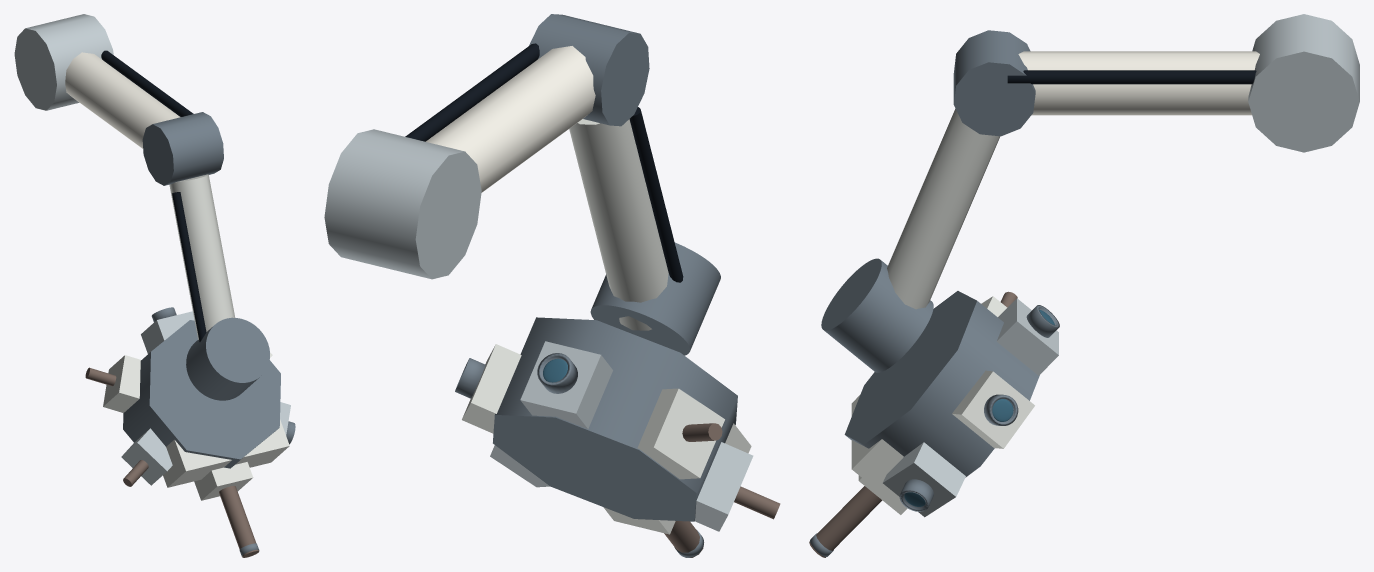
Rendered from perseverance_arm.shoulder_azimuth.shoulder_elevation.glb.
3 views of the same model, side by side, from view 1: azimuth 30°, elevation 25°; view 2: azimuth 150°, elevation 25°; view 3: azimuth 270°, elevation 25° (orthographic). The views are drawn at different scales.
Parts seen in each view (by area): view 1: perseverance_turret.mesh_Machined_steel, perseverance_arm.shoulder_azimuth.shoulder_elevation.elbow.f (×3), perseverance_arm.shoulder_azimuth.shoulder_elevation.mesh_Sa, perseverance_arm.shoulder_azimuth.shoulder_elevation.mesh_Wa, perseverance_arm.shoulder_azimuth.shoulder_elevation.elbow.m, perseverance_turret.mesh_Pale_thermal_blanket, perseverance_turret.gdrt.mesh_Pale_thermal_blanket, perseverance_turret.contact_sensor.mesh_Satin_aluminum, perseverance_turret.drill.mesh_Pale_thermal_blanket, perseverance_turret.drill.mesh_Heat-stained_alloy, perseverance_arm.shoulder_azimuth.shoulder_elevation.mesh_Sh, perseverance_turret.watson.mesh_Satin_aluminum (+1 smaller); view 2: perseverance_turret.mesh_Machined_steel, perseverance_arm.shoulder_azimuth.shoulder_elevation.elbow.f (×3), perseverance_arm.shoulder_azimuth.shoulder_elevation.mesh_Sa, perseverance_arm.shoulder_azimuth.shoulder_elevation.mesh_Wa, perseverance_arm.shoulder_azimuth.shoulder_elevation.elbow.m, perseverance_turret.gdrt.mesh_Pale_thermal_blanket, perseverance_turret.watson.mesh_Satin_aluminum, perseverance_turret.contact_sensor.mesh_Satin_aluminum, perseverance_turret.sherloc.mesh_Pale_thermal_blanket, perseverance_arm.shoulder_azimuth.shoulder_elevation.mesh_Sh, perseverance_turret.watson.aperture.mesh_Machined_steel, perseverance_turret.drill.mesh_Heat-stained_alloy (+5 smaller); view 3: perseverance_arm.shoulder_azimuth.shoulder_elevation.elbow.f (×2), perseverance_turret.mesh_Machined_steel, perseverance_arm.shoulder_azimuth.shoulder_elevation.mesh_Sa, perseverance_arm.shoulder_azimuth.shoulder_elevation.mesh_Wa, perseverance_arm.shoulder_azimuth.shoulder_elevation.elbow.m, perseverance_arm.shoulder_azimuth.shoulder_elevation.mesh_Sh, perseverance_turret.pixl.mesh_Satin_aluminum, perseverance_turret.sherloc.mesh_Pale_thermal_blanket, perseverance_turret.watson.mesh_Satin_aluminum, perseverance_turret.mesh_Pale_thermal_blanket, perseverance_turret.drill.mesh_Heat-stained_alloy, perseverance_turret.pixl.aperture.mesh_Machined_steel.
Boxes of the visible parts, left/top/right/bottom form: perseverance_turret.mesh_Machined_steel: left=123, top=320, right=280, bottom=468; perseverance_arm.shoulder_azimuth.shoulder_elevation.elbow.f (×3): left=169, top=174, right=269, bottom=400; perseverance_arm.shoulder_azimuth.shoulder_elevation.mesh_Sa: left=14, top=14, right=113, bottom=110; perseverance_arm.shoulder_azimuth.shoulder_elevation.mesh_Wa: left=65, top=52, right=180, bottom=148; perseverance_arm.shoulder_azimuth.shoulder_elevation.elbow.m: left=142, top=112, right=223, bottom=185; perseverance_turret.mesh_Pale_thermal_blanket: left=163, top=419, right=289, bottom=487; perseverance_turret.gdrt.mesh_Pale_thermal_blanket: left=103, top=355, right=140, bottom=412; perseverance_turret.contact_sensor.mesh_Satin_aluminum: left=121, top=428, right=172, bottom=485; perseverance_turret.drill.mesh_Pale_thermal_blanket: left=194, top=462, right=253, bottom=500; perseverance_turret.drill.mesh_Heat-stained_alloy: left=219, top=486, right=259, bottom=557; perseverance_arm.shoulder_azimuth.shoulder_elevation.mesh_Sh: left=101, top=50, right=193, bottom=116; perseverance_turret.watson.mesh_Satin_aluminum: left=141, top=311, right=194, bottom=353; perseverance_turret.mesh_Machined_steel: left=493, top=317, right=737, bottom=521; perseverance_arm.shoulder_azimuth.shoulder_elevation.elbow.f (×3): left=569, top=107, right=720, bottom=355; perseverance_arm.shoulder_azimuth.shoulder_elevation.mesh_Sa: left=324, top=129, right=481, bottom=279; perseverance_arm.shoulder_azimuth.shoulder_elevation.mesh_Wa: left=426, top=46, right=595, bottom=192; perseverance_arm.shoulder_azimuth.shoulder_elevation.elbow.m: left=529, top=14, right=649, bottom=126; perseverance_turret.gdrt.mesh_Pale_thermal_blanket: left=637, top=388, right=724, bottom=479; perseverance_turret.watson.mesh_Satin_aluminum: left=520, top=341, right=612, bottom=428; perseverance_turret.contact_sensor.mesh_Satin_aluminum: left=695, top=442, right=753, bottom=531; perseverance_turret.sherloc.mesh_Pale_thermal_blanket: left=462, top=344, right=521, bottom=433; perseverance_arm.shoulder_azimuth.shoulder_elevation.mesh_Sh: left=405, top=43, right=539, bottom=141; perseverance_turret.watson.aperture.mesh_Machined_steel: left=537, top=353, right=577, bottom=393; perseverance_turret.drill.mesh_Heat-stained_alloy: left=664, top=521, right=704, bottom=557; perseverance_arm.shoulder_azimuth.shoulder_elevation.elbow.f (×2): left=821, top=109, right=1000, bottom=372; perseverance_turret.mesh_Machined_steel: left=844, top=291, right=1039, bottom=477; perseverance_arm.shoulder_azimuth.shoulder_elevation.mesh_Sa: left=1248, top=14, right=1359, bottom=152; perseverance_arm.shoulder_azimuth.shoulder_elevation.mesh_Wa: left=1018, top=51, right=1259, bottom=115; perseverance_arm.shoulder_azimuth.shoulder_elevation.elbow.m: left=953, top=30, right=1035, bottom=136; perseverance_arm.shoulder_azimuth.shoulder_elevation.mesh_Sh: left=1007, top=70, right=1256, bottom=84; perseverance_turret.pixl.mesh_Satin_aluminum: left=883, top=442, right=965, bottom=517; perseverance_turret.sherloc.mesh_Pale_thermal_blanket: left=952, top=370, right=1034, bottom=448; perseverance_turret.watson.mesh_Satin_aluminum: left=996, top=298, right=1058, bottom=375; perseverance_turret.mesh_Pale_thermal_blanket: left=851, top=395, right=903, bottom=508; perseverance_turret.drill.mesh_Heat-stained_alloy: left=809, top=486, right=882, bottom=557; perseverance_turret.pixl.aperture.mesh_Machined_steel: left=899, top=479, right=933, bottom=511.
Size of the model in its own units: 0.6024 by 1.33 by 1.26.
